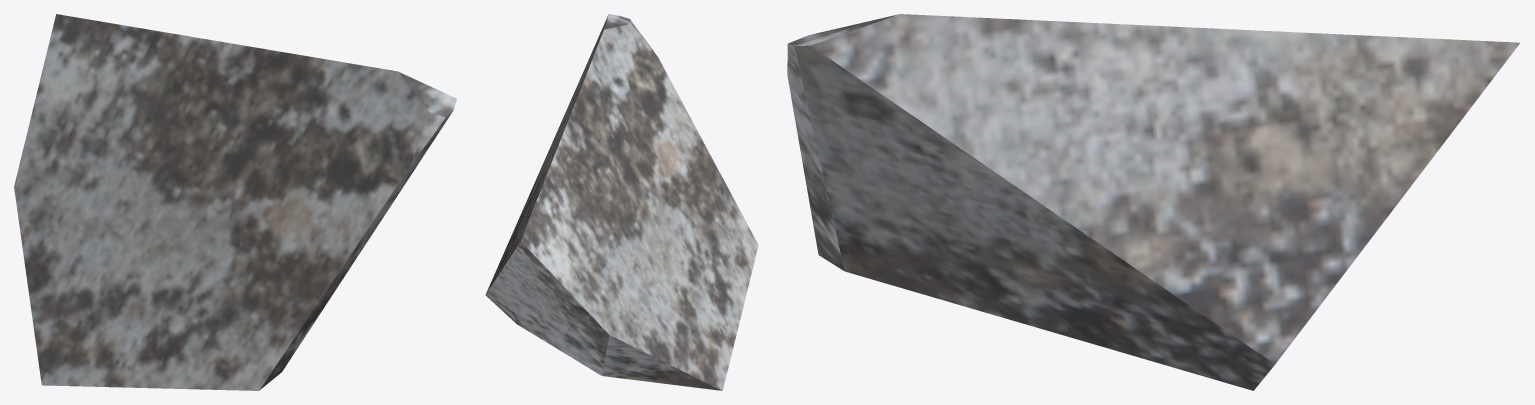
The model's file is Asteroid_Large_001_02_008_03_015.fbx.
3 views of the same model, side by side, from view 1: azimuth 30°, elevation 25°; view 2: azimuth 150°, elevation 25°; view 3: azimuth 270°, elevation 25° (orthographic). The views are drawn at different scales.
Visible parts, largest first — view 1: Asteroid_Large_001_02_008_03_015; view 2: Asteroid_Large_001_02_008_03_015; view 3: Asteroid_Large_001_02_008_03_015.
Part boxes in pixels (bbox=[...]): Asteroid_Large_001_02_008_03_015: bbox=[14, 14, 456, 390]; Asteroid_Large_001_02_008_03_015: bbox=[485, 14, 758, 390]; Asteroid_Large_001_02_008_03_015: bbox=[787, 14, 1519, 390].
Size of the model in its own units: 3.52 by 3.91 by 5.76.
